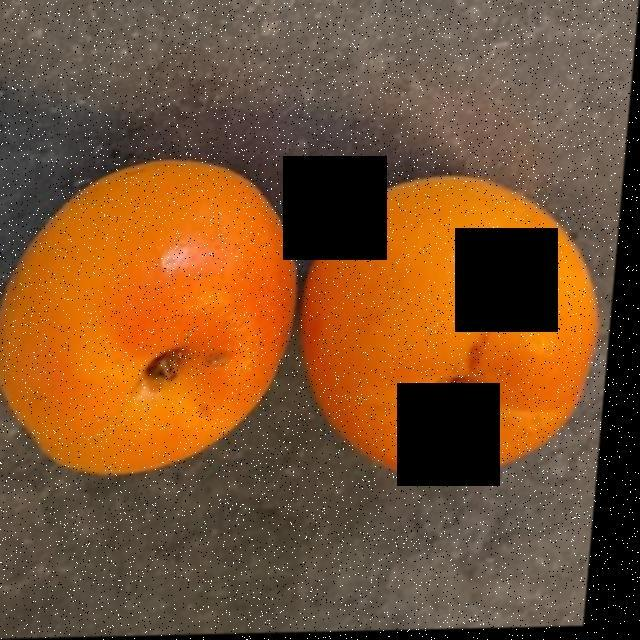apricots: (7, 166, 594, 476)
